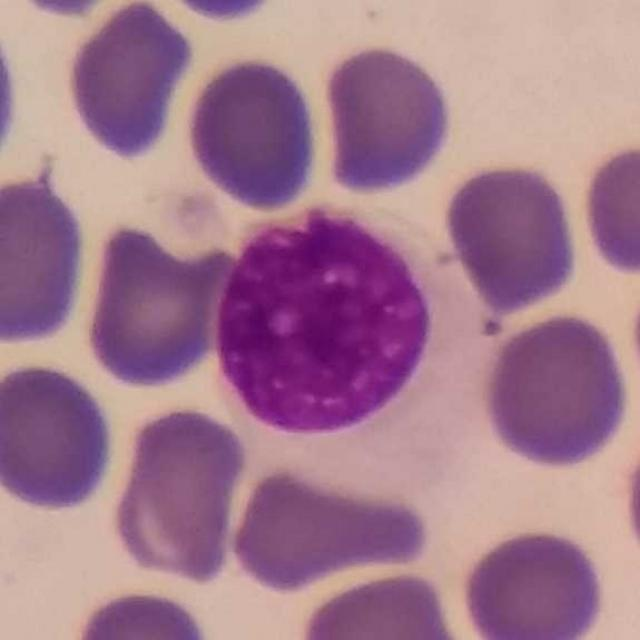Monocyte: (214, 210, 490, 494)
RBC: (79, 217, 238, 393), (107, 401, 250, 588), (224, 464, 421, 596), (478, 308, 634, 473), (181, 51, 325, 215), (440, 156, 584, 316), (60, 0, 198, 165), (318, 39, 458, 198), (0, 358, 119, 516), (456, 523, 611, 640), (0, 168, 93, 351), (294, 566, 470, 640), (577, 136, 640, 280), (65, 584, 218, 640), (619, 421, 640, 584), (162, 0, 282, 28), (0, 60, 27, 147), (15, 0, 114, 21)
